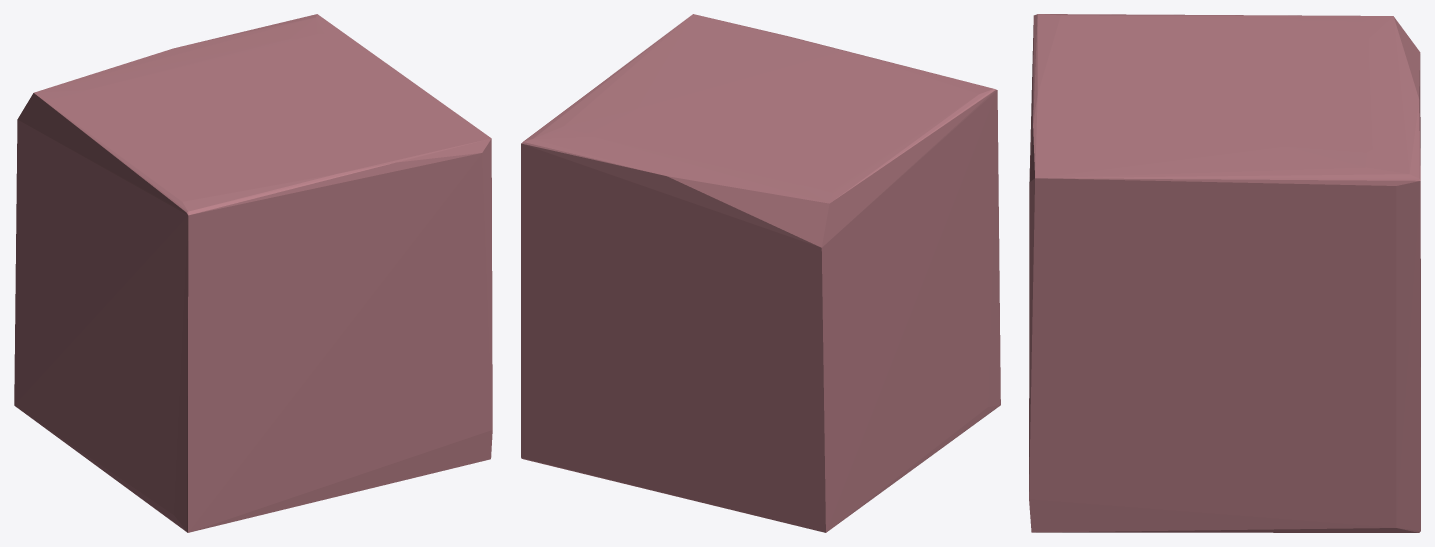
The model's file is box_corrugated_white_b04.glb.
The picture shows the model from 3 angles, left to right: view 1: azimuth 30°, elevation 25°; view 2: azimuth 150°, elevation 25°; view 3: azimuth 270°, elevation 25°; orthographic projection. The views are drawn at different scales.
Parts seen in each view (by area): view 1: geometry_0; view 2: geometry_0; view 3: geometry_0.
Boxes of the visible parts, x1,y1,x2,y2 form: geometry_0: [14, 14, 492, 532]; geometry_0: [521, 14, 1000, 532]; geometry_0: [1029, 14, 1420, 532].
Bounding box in the file's own units: 0.4779 × 0.4774 × 0.4744.
